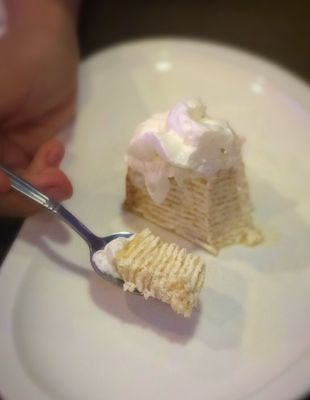sushi: (123, 97, 265, 256), (91, 227, 207, 320)
